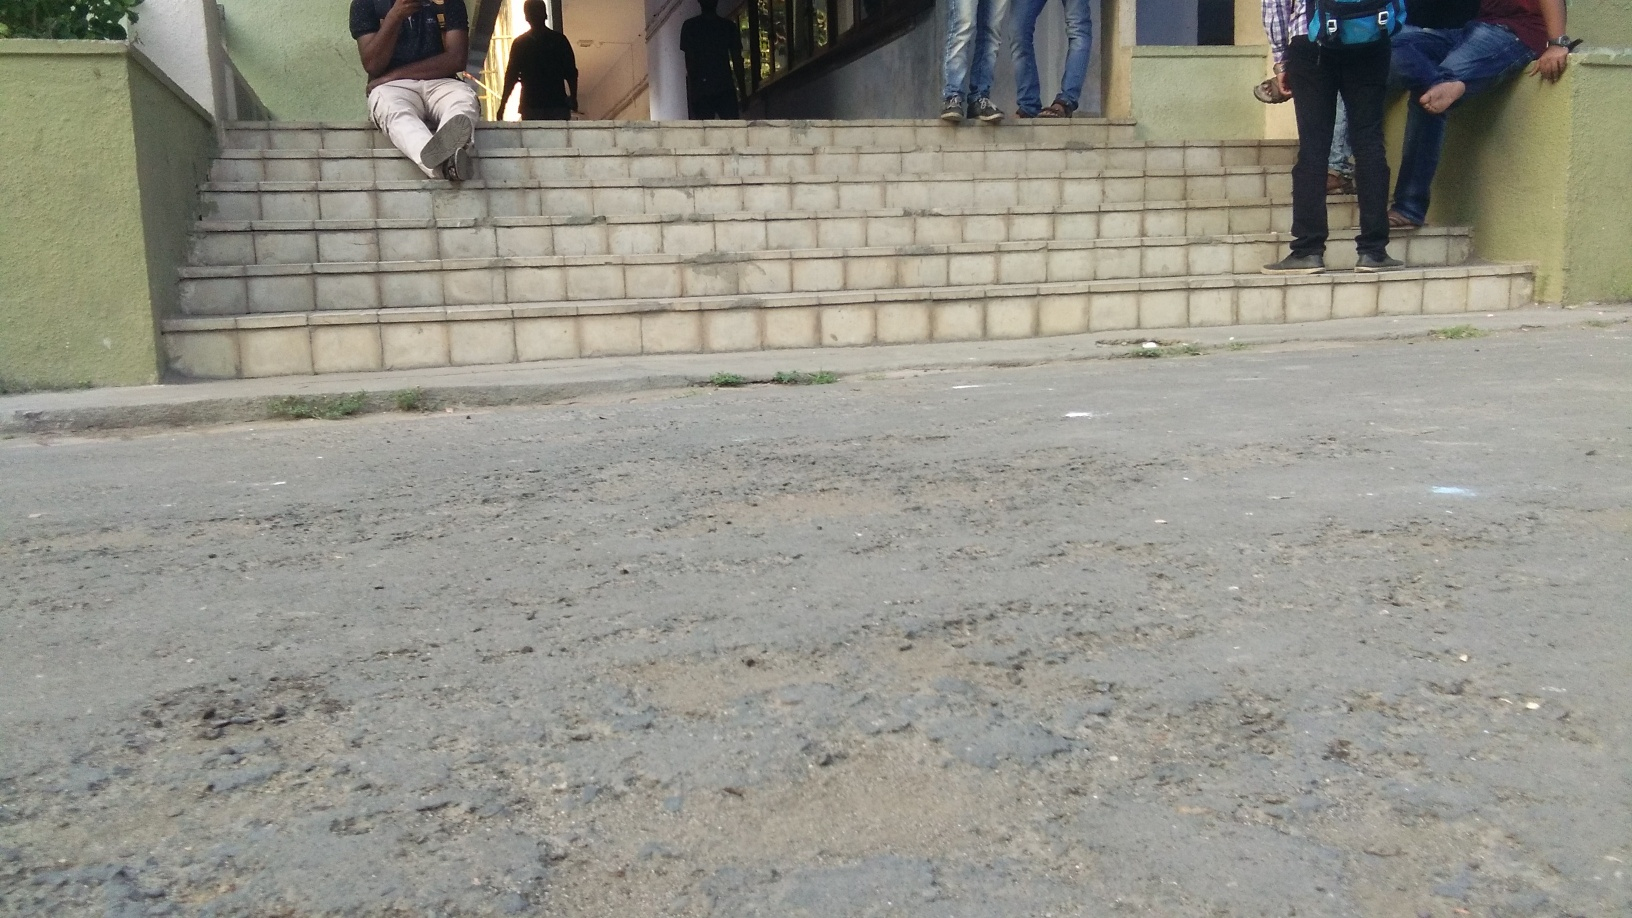stairs_up: (182, 106, 1446, 342)
